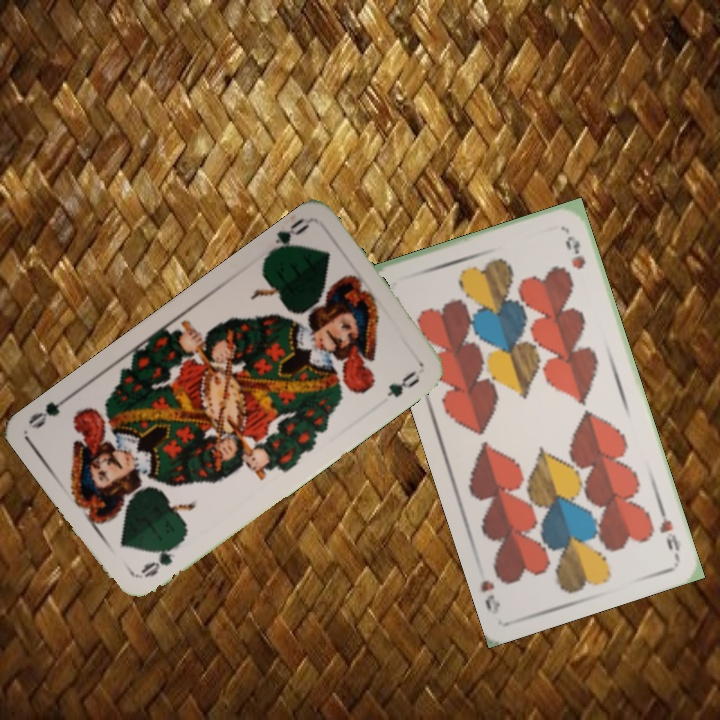GO: (263, 213, 312, 260), (136, 537, 185, 581)
H9: (655, 502, 683, 560)
